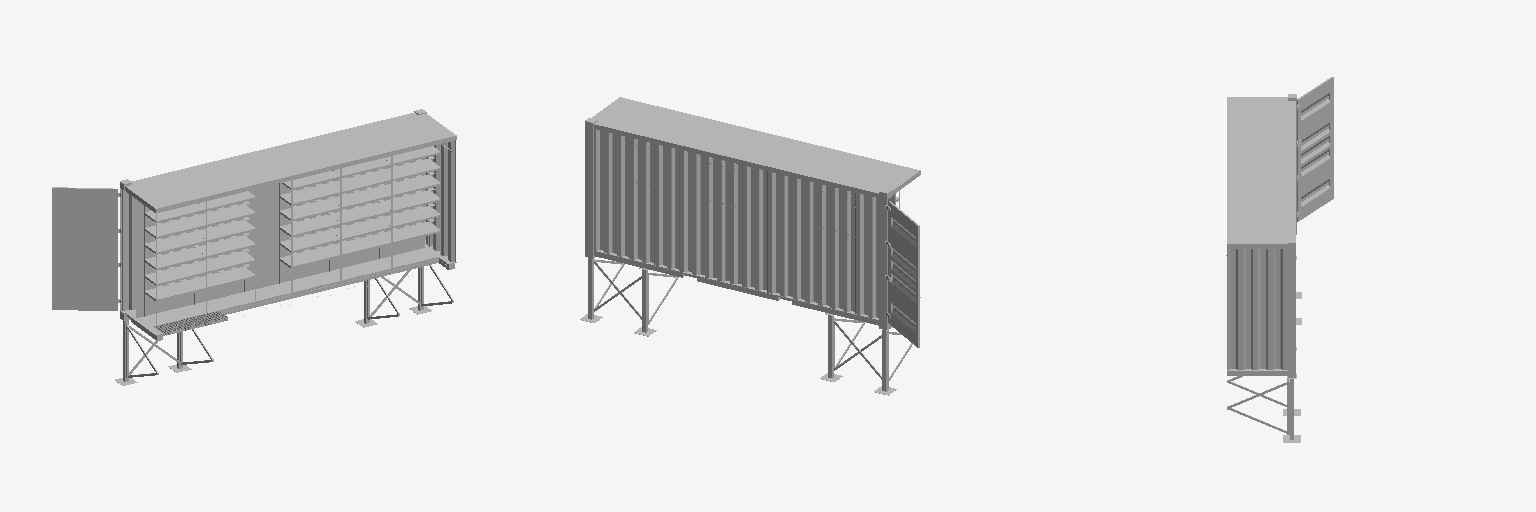
Rendered from containerLeft.obj.
3 renders of one model, left to right at view 1: azimuth 30°, elevation 25°; view 2: azimuth 150°, elevation 25°; view 3: azimuth 270°, elevation 25°, orthographic.
Visible parts, largest first — view 1: model__karkas, model__polki, model__peregorodka, model__dveri, model__opori, model__tehnika__BP, model__reshetka; view 2: model__karkas, model__dveri, model__opori; view 3: model__karkas, model__dveri, model__opori.
Part boxes in pixels (bbox=[...]): model__karkas: bbox=[120, 109, 456, 340]; model__polki: bbox=[144, 144, 451, 325]; model__peregorodka: bbox=[136, 158, 424, 317]; model__dveri: bbox=[52, 187, 121, 310]; model__opori: bbox=[115, 265, 453, 385]; model__tehnika__BP: bbox=[153, 156, 435, 289]; model__reshetka: bbox=[153, 257, 447, 335]; model__karkas: bbox=[585, 97, 920, 329]; model__dveri: bbox=[885, 201, 919, 347]; model__opori: bbox=[580, 257, 912, 395]; model__karkas: bbox=[1227, 94, 1296, 377]; model__dveri: bbox=[1297, 77, 1333, 221]; model__opori: bbox=[1227, 256, 1301, 442].
Bounding box in the file's own units: 713 × 382 × 186.